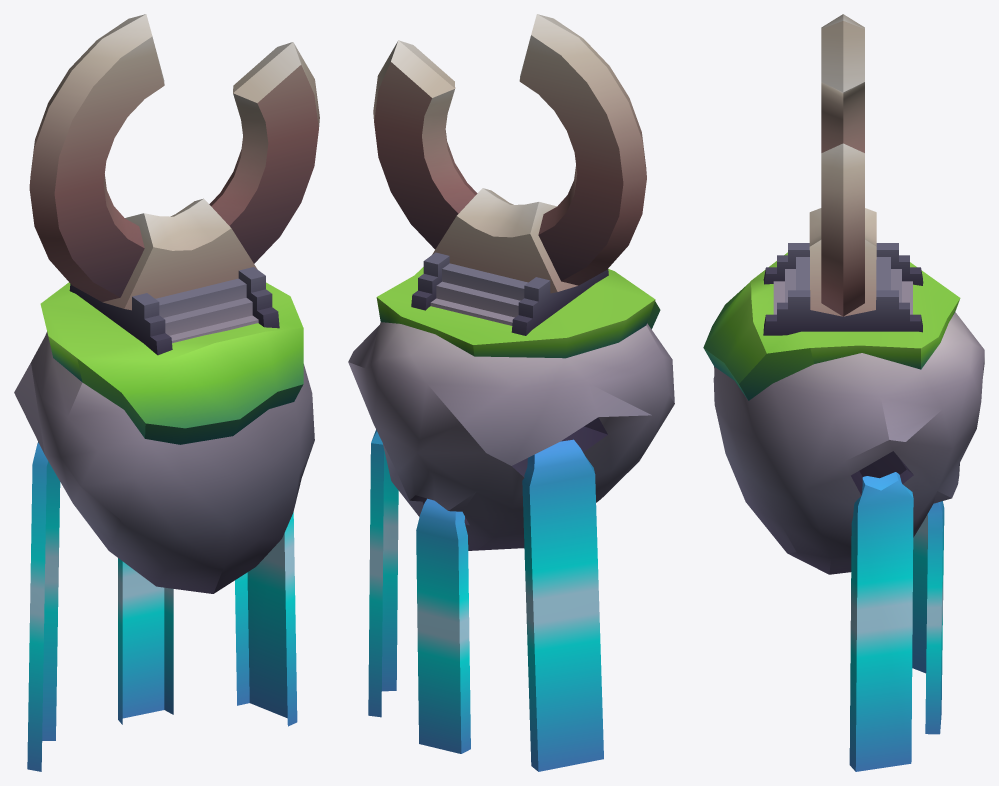
Rendered from main_lev_9.fbx.
The picture shows the model from 3 angles, left to right: view 1: azimuth 30°, elevation 25°; view 2: azimuth 150°, elevation 25°; view 3: azimuth 270°, elevation 25°; orthographic projection. The views are drawn at different scales.
Parts seen in each view (by area): view 1: lev_10; view 2: lev_10; view 3: lev_10.
Part boxes in pixels (x1,y1,x2,y2): lev_10: [14, 14, 319, 771]; lev_10: [348, 14, 674, 771]; lev_10: [703, 14, 984, 771].
Bounding box in the file's own units: 937 × 2319 × 867.
